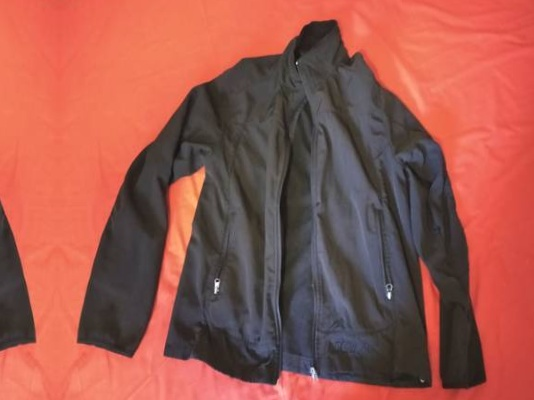Blazer: (78, 32, 501, 400), (0, 28, 36, 400)
